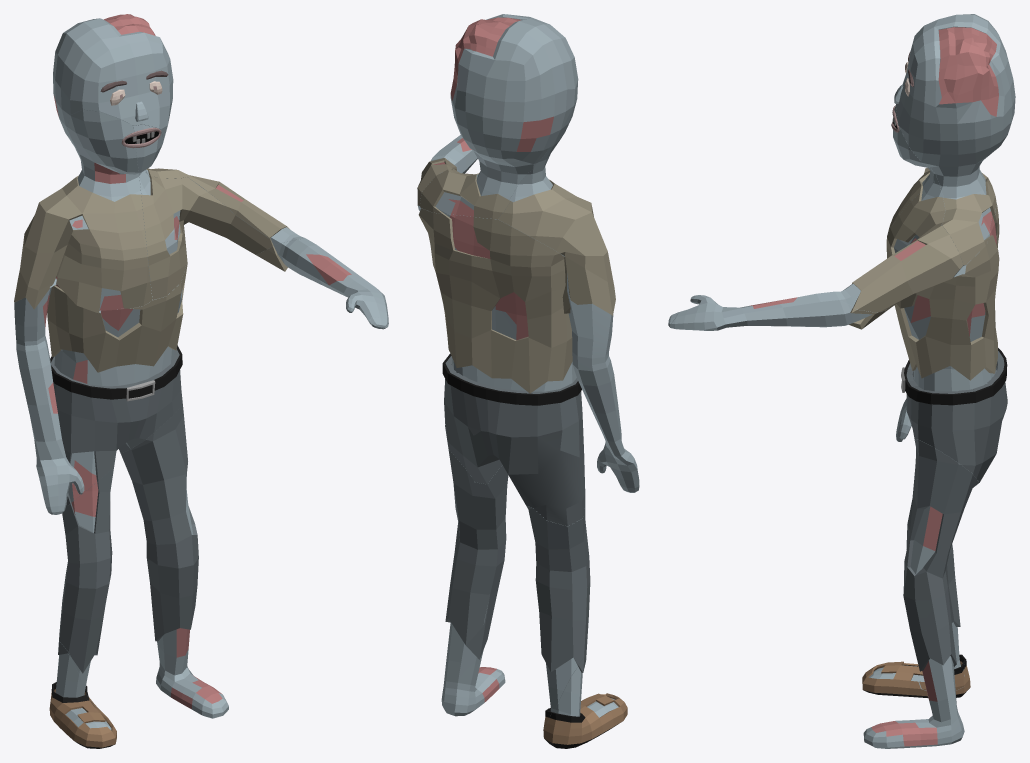
The model's file is Zombie_fragments.fbx.
3 views of the same model, side by side, from view 1: azimuth 30°, elevation 25°; view 2: azimuth 150°, elevation 25°; view 3: azimuth 270°, elevation 25° (orthographic). The views are drawn at different scales.
Parts seen in each view (by area): view 1: Cube.029_cell.018, Cube.029_cell.020, Cube.029_cell.013, Cube.029_cell.027, Cube.029_cell.017, Cube.029_cell.014, Cube.029_cell.023, Cube.029_cell.031, Cube.029_cell.028, Cube.029_cell.030, Cube.029_cell.029; view 2: Cube.029_cell.020, Cube.029_cell.027, Cube.029_cell.013, Cube.029_cell.018, Cube.029_cell.014, Cube.029_cell.023, Cube.029_cell.028, Cube.029_cell.029, Cube.029_cell.031, Cube.029_cell.030; view 3: Cube.029_cell.027, Cube.029_cell.020, Cube.029_cell.013, Cube.029_cell.030, Cube.029_cell.031, Cube.029_cell.017, Cube.029_cell.028, Cube.029_cell.014, Cube.029_cell.018.
Part boxes in pixels (left/top/right/bottom): Cube.029_cell.018: left=14, top=109, right=152, bottom=341; Cube.029_cell.020: left=47, top=225, right=187, bottom=506; Cube.029_cell.013: left=120, top=405, right=228, bottom=718; Cube.029_cell.027: left=53, top=14, right=190, bottom=178; Cube.029_cell.017: left=133, top=124, right=274, bottom=299; Cube.029_cell.014: left=58, top=467, right=113, bottom=690; Cube.029_cell.023: left=16, top=331, right=84, bottom=514; Cube.029_cell.031: left=256, top=238, right=388, bottom=329; Cube.029_cell.028: left=49, top=682, right=116, bottom=748; Cube.029_cell.030: left=188, top=175, right=304, bottom=244; Cube.029_cell.029: left=55, top=641, right=111, bottom=730; Cube.029_cell.020: left=418, top=208, right=585, bottom=526; Cube.029_cell.027: left=420, top=14, right=578, bottom=219; Cube.029_cell.013: left=441, top=425, right=508, bottom=716; Cube.029_cell.018: left=498, top=89, right=615, bottom=358; Cube.029_cell.014: left=526, top=505, right=590, bottom=712; Cube.029_cell.023: left=572, top=352, right=639, bottom=492; Cube.029_cell.028: left=543, top=693, right=627, bottom=748; Cube.029_cell.029: left=554, top=657, right=618, bottom=717; Cube.029_cell.031: left=422, top=135, right=477, bottom=173; Cube.029_cell.030: left=417, top=154, right=456, bottom=210; Cube.029_cell.027: left=894, top=14, right=1015, bottom=265; Cube.029_cell.020: left=894, top=202, right=1007, bottom=482; Cube.029_cell.013: left=863, top=439, right=979, bottom=748; Cube.029_cell.030: left=834, top=225, right=962, bottom=312; Cube.029_cell.031: left=669, top=291, right=885, bottom=330; Cube.029_cell.017: left=885, top=106, right=945, bottom=311; Cube.029_cell.028: left=862, top=654, right=970, bottom=697; Cube.029_cell.014: left=906, top=449, right=960, bottom=669; Cube.029_cell.018: left=886, top=105, right=993, bottom=258.
Bounding box in the file's own units: 476 × 1241 × 562.
